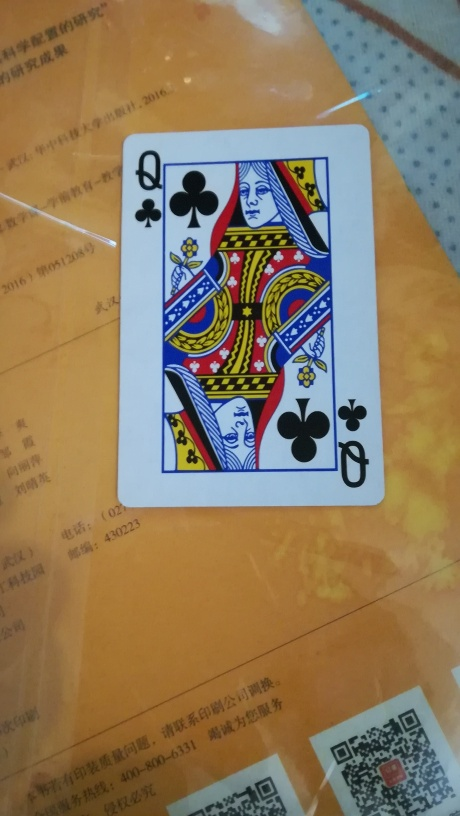mh q: (117, 121, 384, 509)
